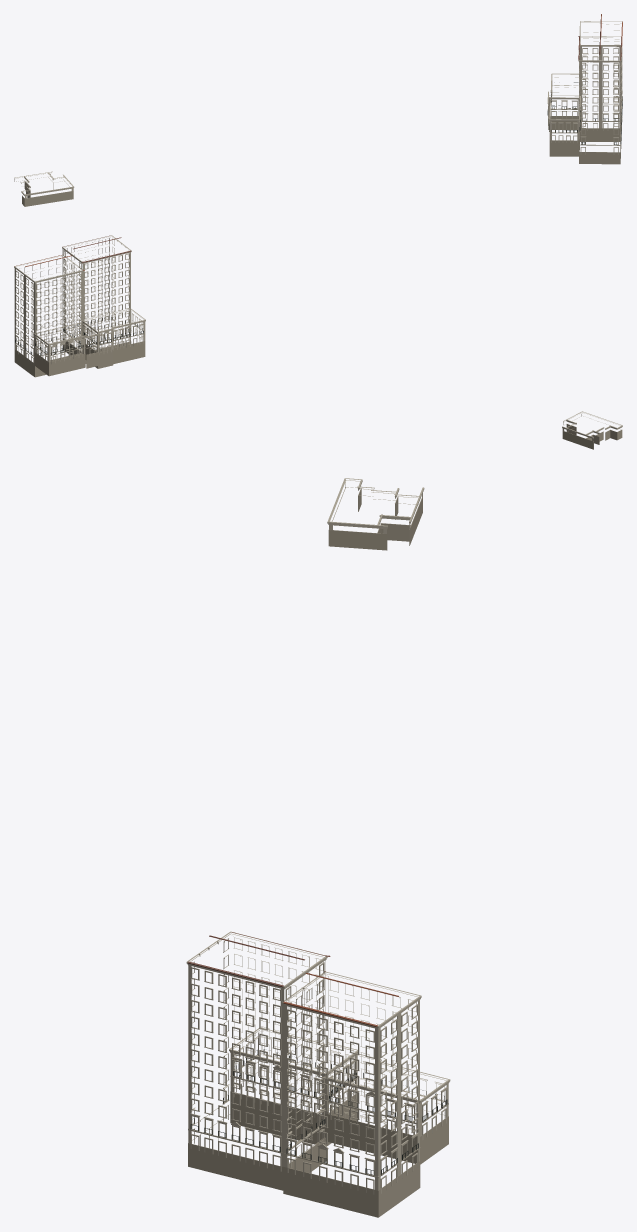
3 renders of one model, top to bottom at view 1: azimuth 30°, elevation 25°; view 2: azimuth 150°, elevation 25°; view 3: azimuth 270°, elevation 25°, orthographic. The views are drawn at different scales.
Parts seen in each view (by area): view 1: detail; view 2: detail; view 3: detail.
Boxes of the visible parts, <box> form: detail: <box>14,14,622,206</box>; detail: <box>14,235,622,449</box>; detail: <box>186,478,450,1217</box>.
Bounding box in the file's own units: 229 × 39.92 × 43.5.
